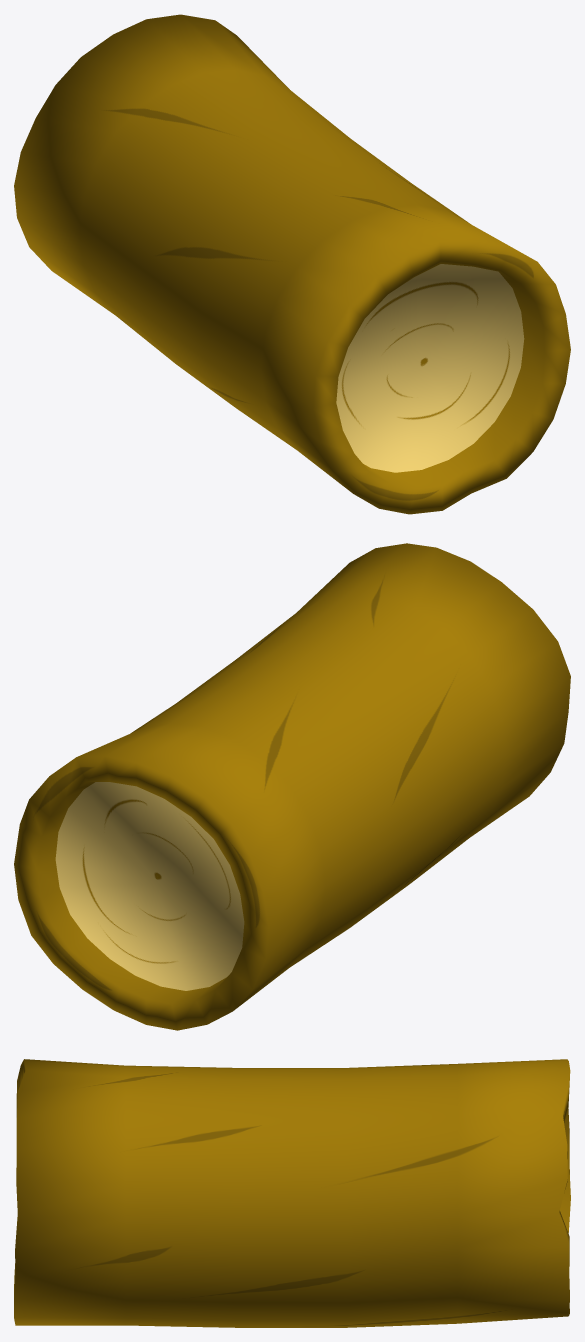
The model's file is log.glb.
3 renders of one model, top to bottom at view 1: azimuth 30°, elevation 25°; view 2: azimuth 150°, elevation 25°; view 3: azimuth 270°, elevation 25°, orthographic. The views are drawn at different scales.
Visible parts, largest first — view 1: log; view 2: log; view 3: log.
Part boxes in pixels (bbox=[...]): log: bbox=[14, 14, 570, 514]; log: bbox=[14, 543, 570, 1030]; log: bbox=[14, 1059, 570, 1327].
Size of the model in its own units: 2.2 by 2.22 by 4.52.
1 material, 1 textured.
